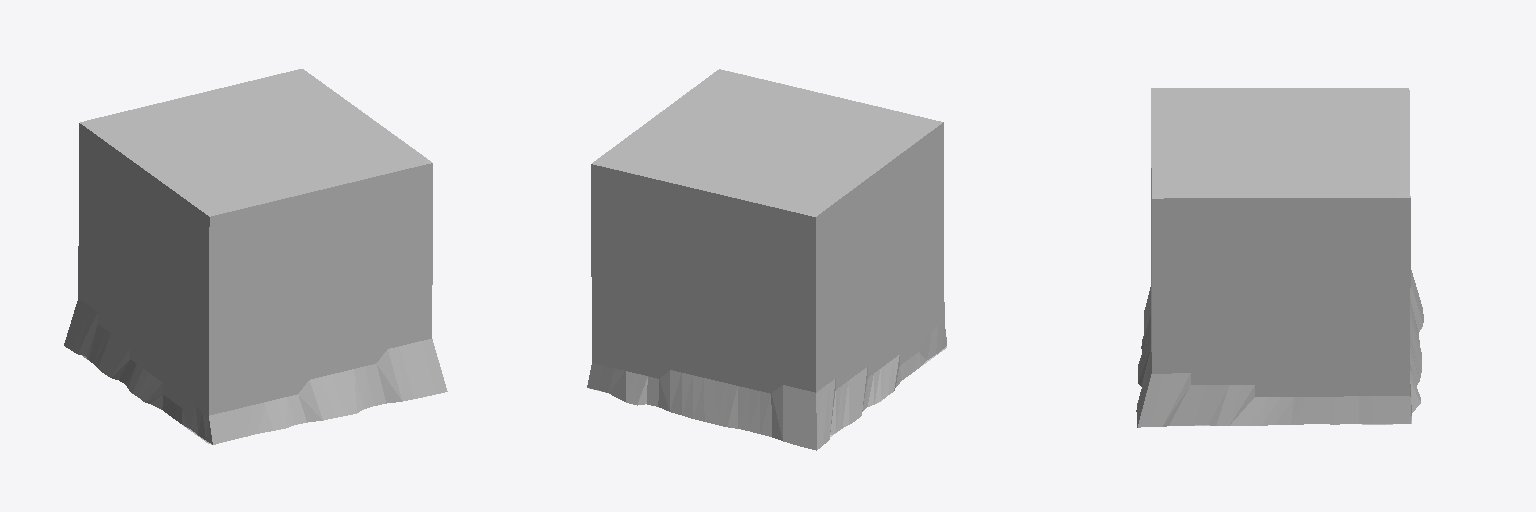
File: mod0232.obj
The picture shows the model from 3 angles: view 1: azimuth 30°, elevation 25°; view 2: azimuth 150°, elevation 25°; view 3: azimuth 270°, elevation 25°; orthographic projection.
Visible parts, largest first — view 1: Box001; view 2: Box001; view 3: Box001.
Part boxes in pixels (bbox=[...]): Box001: bbox=[64, 69, 447, 444]; Box001: bbox=[587, 69, 946, 450]; Box001: bbox=[1136, 88, 1423, 427].
Bounding box in the file's own units: 0.5799 × 0.5219 × 0.5979.